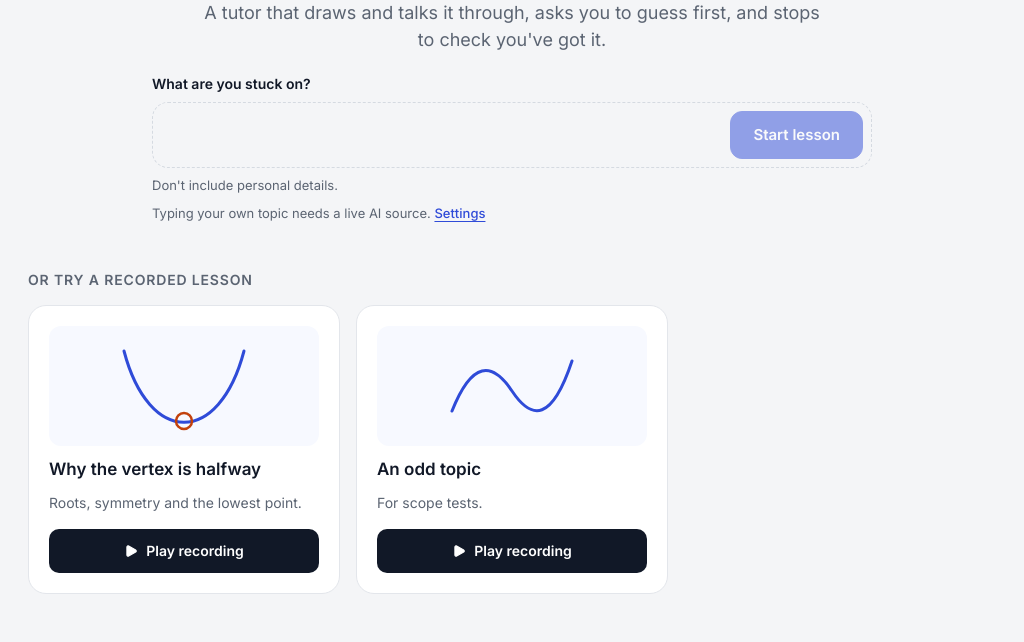
interrupts › raise hand during a beat: speech.cancelAll called synchronously, overlay open
(page scrolled)
What coordinates should you click on to do the following:
click the button "Why the vertex is halfway"
I would click on:
 (184, 386)
Its box is [28,305,340,594].
Wait 350 ms
(page scrolled)
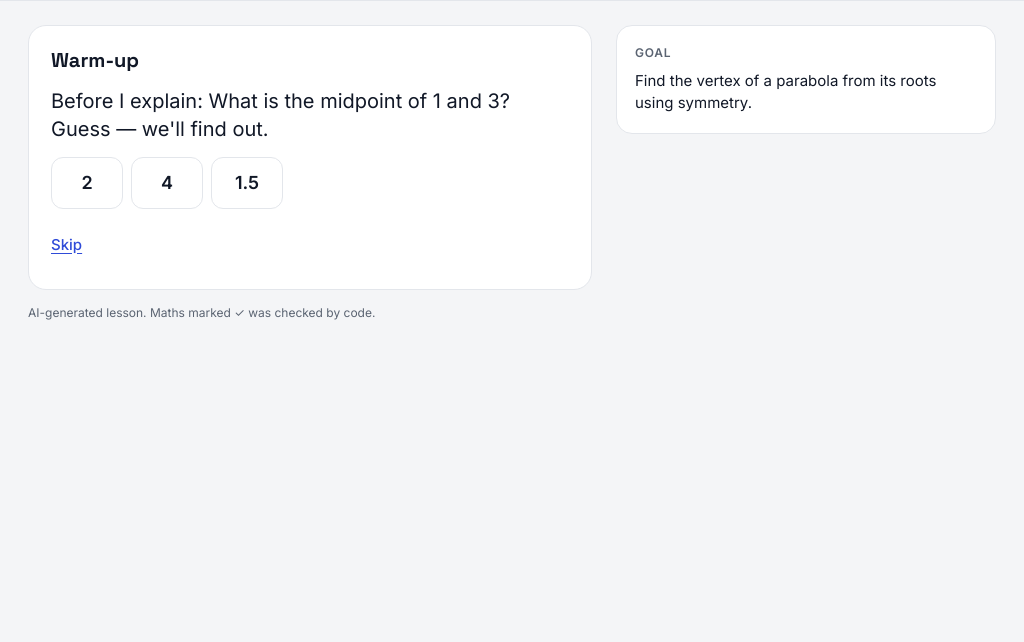
What coordinates should you click on to do the following:
click the button "4"
I would click on:
 (167, 183)
Its box is [131,157,203,209].
Wait 150 ms
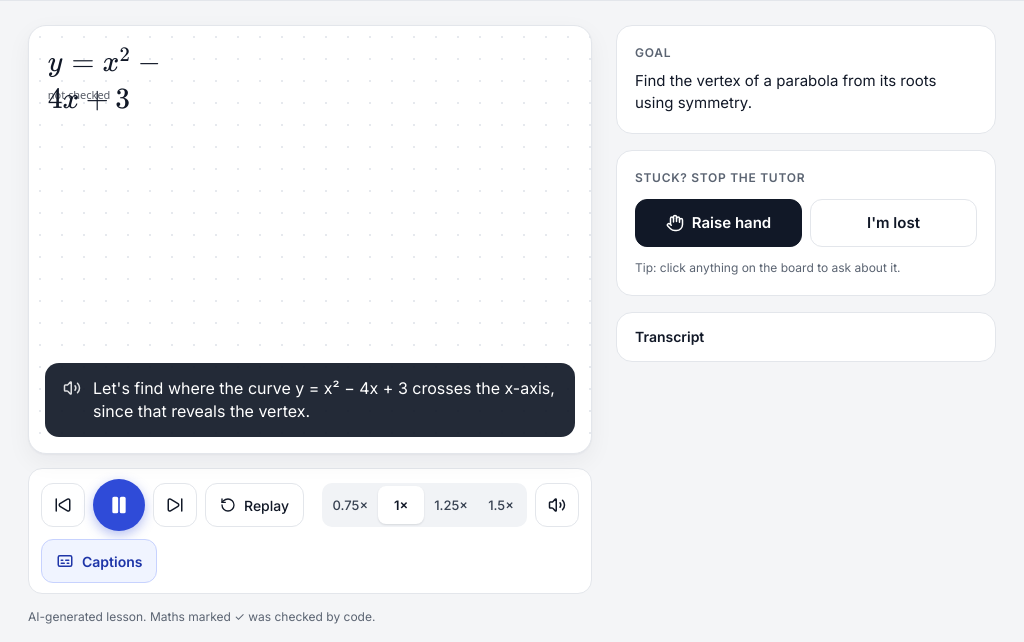
What coordinates should you click on to do the following:
click the button "Raise hand"
I would click on:
 (718, 223)
Its box is [635,199,802,247].
(page scrolled)
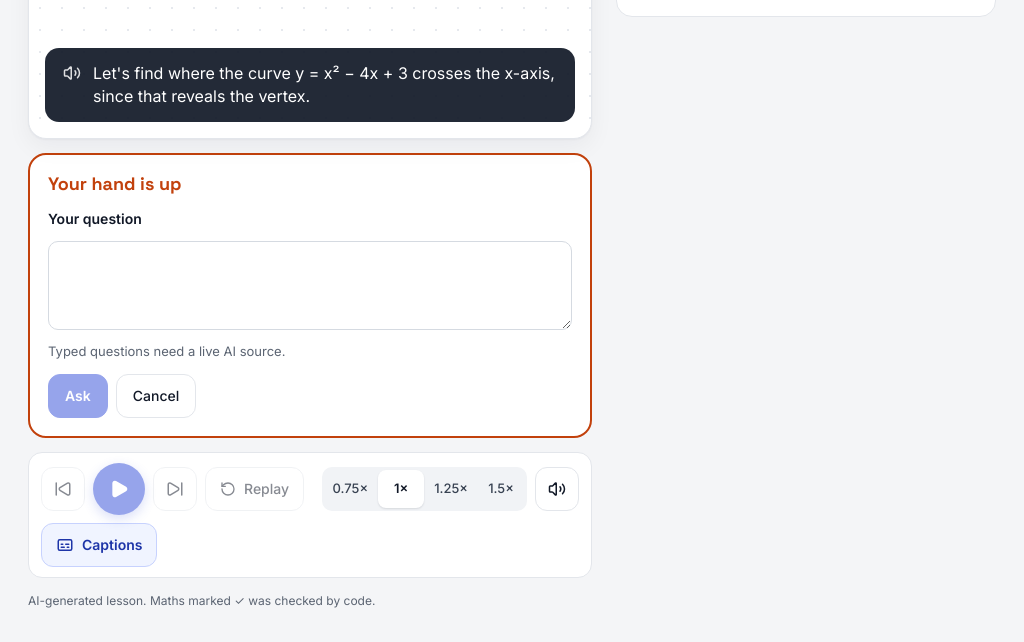
Now the form named "Ask the tutor" is shown, box [28,153,592,438]
Now the button named "Play" is disabled, box [93,463,145,515]
